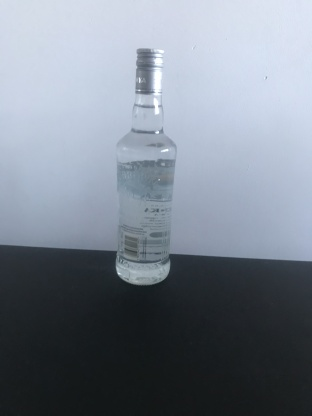nakretka: (134, 46, 165, 95)
